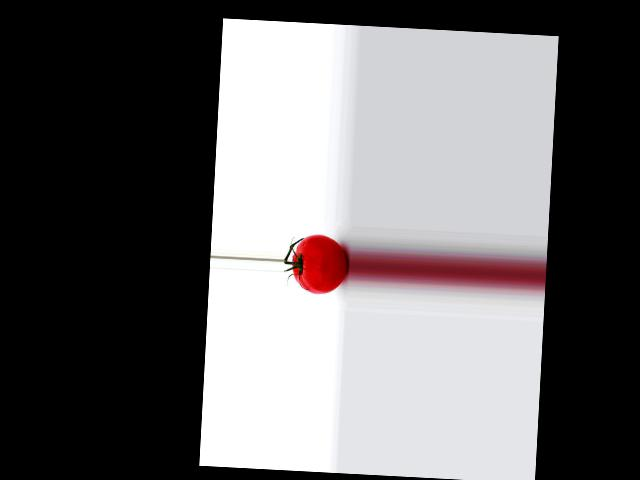tomato: (291, 234, 349, 296)
